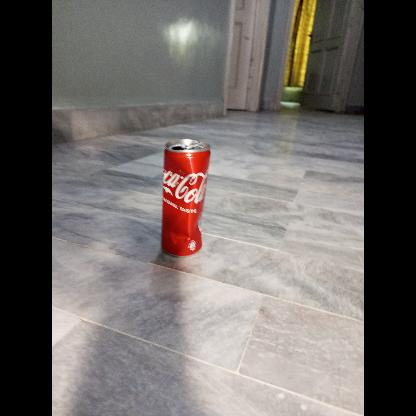Dent_Can: (163, 161, 212, 192), (167, 203, 201, 244)
Lid_Open: (170, 132, 204, 156)
Tin_Can: (152, 126, 212, 258)
